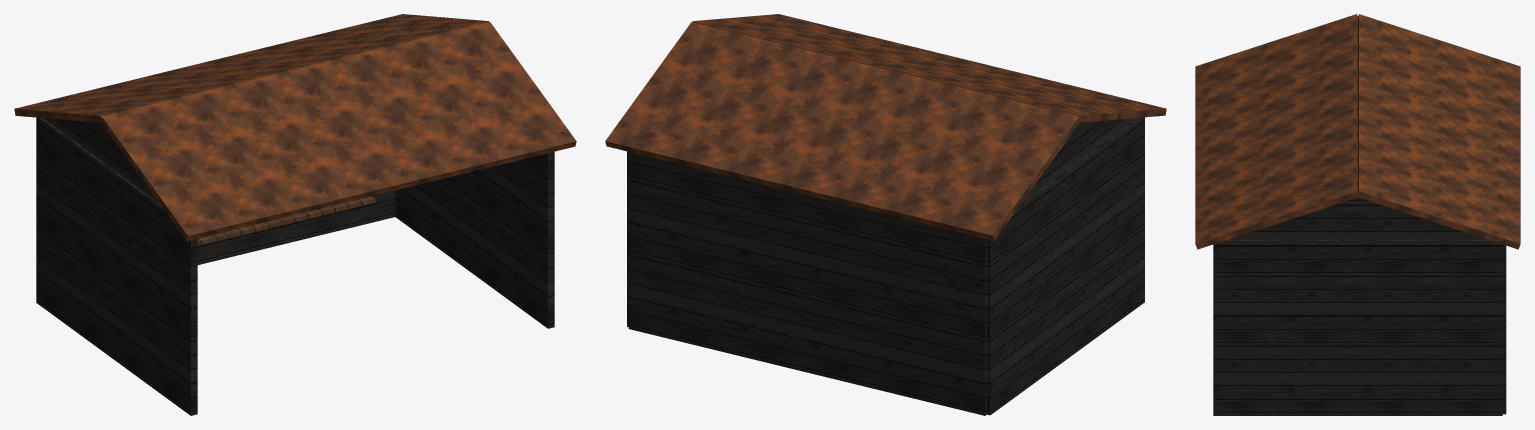
File: cobertizo.obj
3 views of the same model, side by side, from view 1: azimuth 30°, elevation 25°; view 2: azimuth 150°, elevation 25°; view 3: azimuth 270°, elevation 25° (orthographic). The views are drawn at different scales.
Parts seen in each view (by area): view 1: cobertizo; view 2: cobertizo; view 3: cobertizo.
Boxes of the visible parts, <box> form: cobertizo: <box>14,14,576,415</box>; cobertizo: <box>605,14,1166,415</box>; cobertizo: <box>1195,14,1520,415</box>.
Size of the model in its own units: 8.7 by 5.27 by 6.75.
3 materials, 3 textured.
